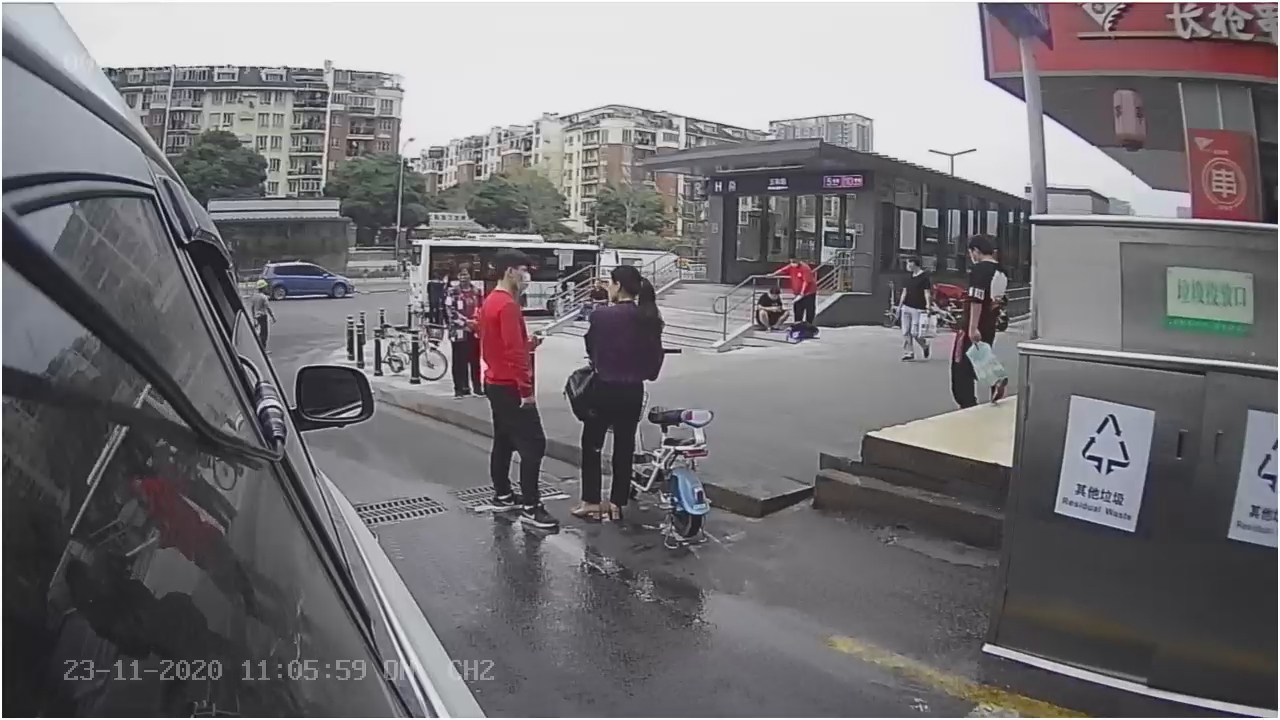person: (471, 249, 564, 545)
